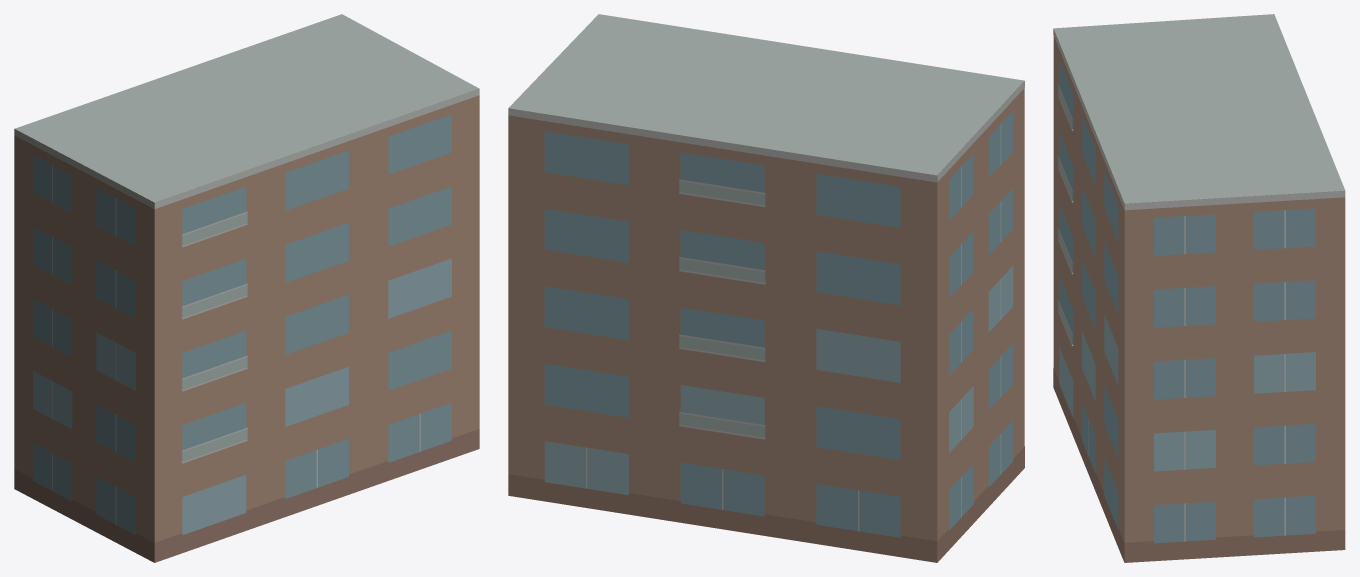
File: survey-upis-32889381.glb
3 views of the same model, side by side, from view 1: azimuth 30°, elevation 25°; view 2: azimuth 150°, elevation 25°; view 3: azimuth 270°, elevation 25° (orthographic). The views are drawn at different scales.
Parts seen in each view (by area): view 1: survey-upis-32889381.tmp; view 2: survey-upis-32889381.tmp; view 3: survey-upis-32889381.tmp.
Boxes of the visible parts, bbox=[...] form: survey-upis-32889381.tmp: bbox=[14, 14, 479, 562]; survey-upis-32889381.tmp: bbox=[508, 14, 1024, 562]; survey-upis-32889381.tmp: bbox=[1053, 14, 1345, 562].
Bounding box in the file's own units: 15.08 × 13.3 × 9.81.
